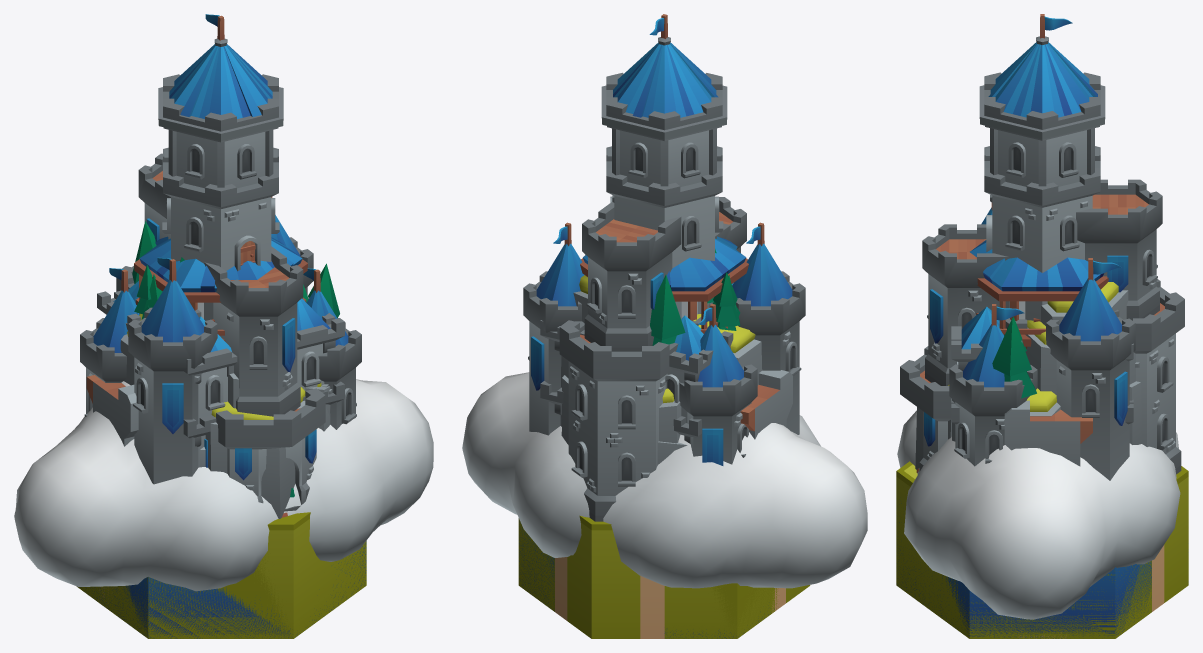
The model's file is arena.glb.
3 renders of one model, left to right at view 1: azimuth 30°, elevation 25°; view 2: azimuth 150°, elevation 25°; view 3: azimuth 270°, elevation 25°, orthographic.
Visible parts, largest first — view 1: building_castle_blue, cloud_big, hex_grass, hex_grass_bottom, building_barracks_blue, hex_water, mountain_C_grass_trees, building_tower_B_top_blue, hex_road_A, mountain_A_grass_trees, wall_straight_gate, wall_straight; view 2: building_castle_blue, cloud_big, hex_road_C, hex_road_A, building_barracks_blue, hex_grass, mountain_C_grass_trees, building_tower_B_top_blue, hex_grass_bottom, hex_road_B, mountain_A_grass_trees, wall_straight_gate (+3 smaller); view 3: building_castle_blue, cloud_big, hex_water, hex_grass_bottom, hex_grass, building_tower_B_top_blue, mountain_B_grass, hex_road_B, wall_straight, wall_straight_gate, building_barracks_blue, mountain_A_grass_trees (+2 smaller).
Boxes of the visible parts, x1,y1,x2,y2 form: building_castle_blue: [80, 14, 361, 511]; cloud_big: [14, 379, 433, 591]; hex_grass: [77, 519, 366, 638]; hex_grass_bottom: [78, 512, 366, 638]; building_barracks_blue: [97, 281, 344, 467]; hex_water: [80, 541, 366, 638]; mountain_C_grass_trees: [120, 257, 330, 518]; building_tower_B_top_blue: [134, 236, 307, 341]; hex_road_A: [79, 519, 366, 638]; mountain_A_grass_trees: [132, 221, 339, 430]; wall_straight_gate: [86, 375, 138, 438]; wall_straight: [86, 377, 138, 446]; building_castle_blue: [523, 14, 805, 521]; cloud_big: [462, 372, 867, 588]; hex_road_C: [518, 530, 664, 638]; hex_road_A: [518, 518, 809, 638]; building_barracks_blue: [540, 283, 733, 443]; hex_grass: [518, 519, 809, 638]; mountain_C_grass_trees: [561, 249, 762, 444]; building_tower_B_top_blue: [580, 236, 748, 333]; hex_grass_bottom: [518, 515, 809, 638]; hex_road_B: [555, 522, 803, 638]; mountain_A_grass_trees: [560, 274, 740, 465]; wall_straight_gate: [741, 370, 790, 439]; building_castle_blue: [900, 14, 1184, 480]; cloud_big: [897, 410, 1180, 619]; hex_water: [896, 503, 1151, 638]; hex_grass_bottom: [896, 461, 1188, 638]; hex_grass: [896, 464, 1188, 638]; building_tower_B_top_blue: [970, 240, 1108, 348]; mountain_B_grass: [1025, 282, 1135, 416]; hex_road_B: [896, 465, 1188, 638]; wall_straight: [1004, 400, 1092, 466]; wall_straight_gate: [1004, 406, 1092, 464]; building_barracks_blue: [951, 307, 1133, 424]; mountain_A_grass_trees: [952, 318, 1036, 403].
Size of the model in its own units: 3.61 by 4.98 by 2.31.
Materials: 1 (1 with a texture image).
